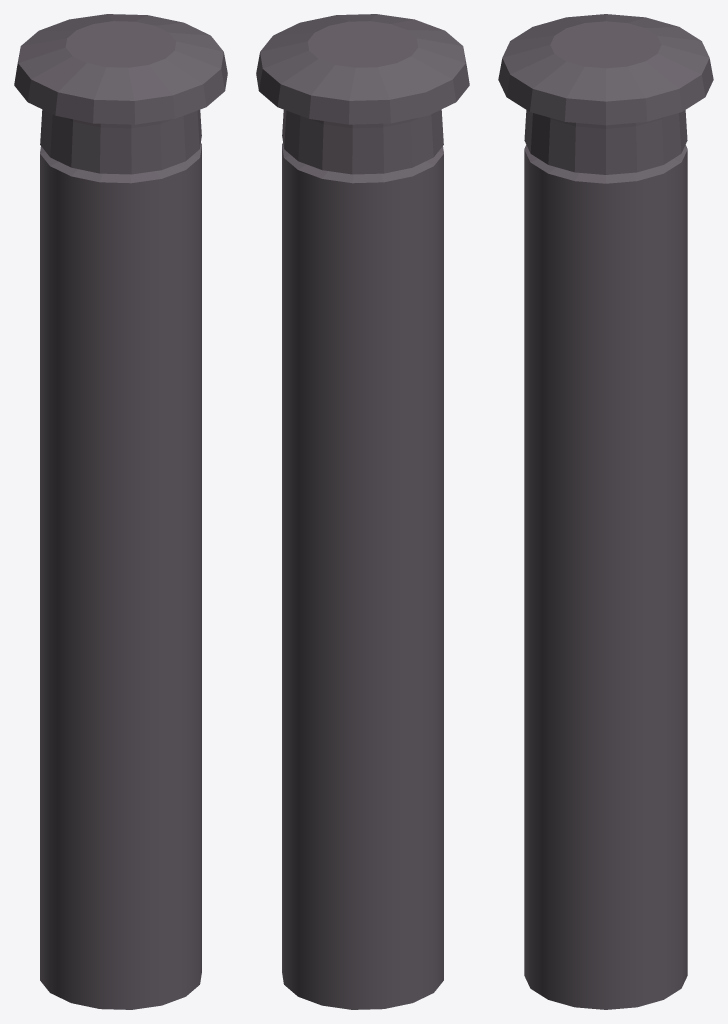
File: SM_chimney_metal_02.fbx
3 renders of one model, left to right at view 1: azimuth 30°, elevation 25°; view 2: azimuth 150°, elevation 25°; view 3: azimuth 270°, elevation 25°, orthographic.
Visible parts, largest first — view 1: chimney_metal_02; view 2: chimney_metal_02; view 3: chimney_metal_02.
Boxes of the visible parts, x1=… form: chimney_metal_02: x1=14, y1=14, x2=227, y2=1009; chimney_metal_02: x1=256, y1=14, x2=469, y2=1009; chimney_metal_02: x1=498, y1=14, x2=713, y2=1009.
Bounding box in the file's own units: 14.25 × 67.92 × 14.25.
